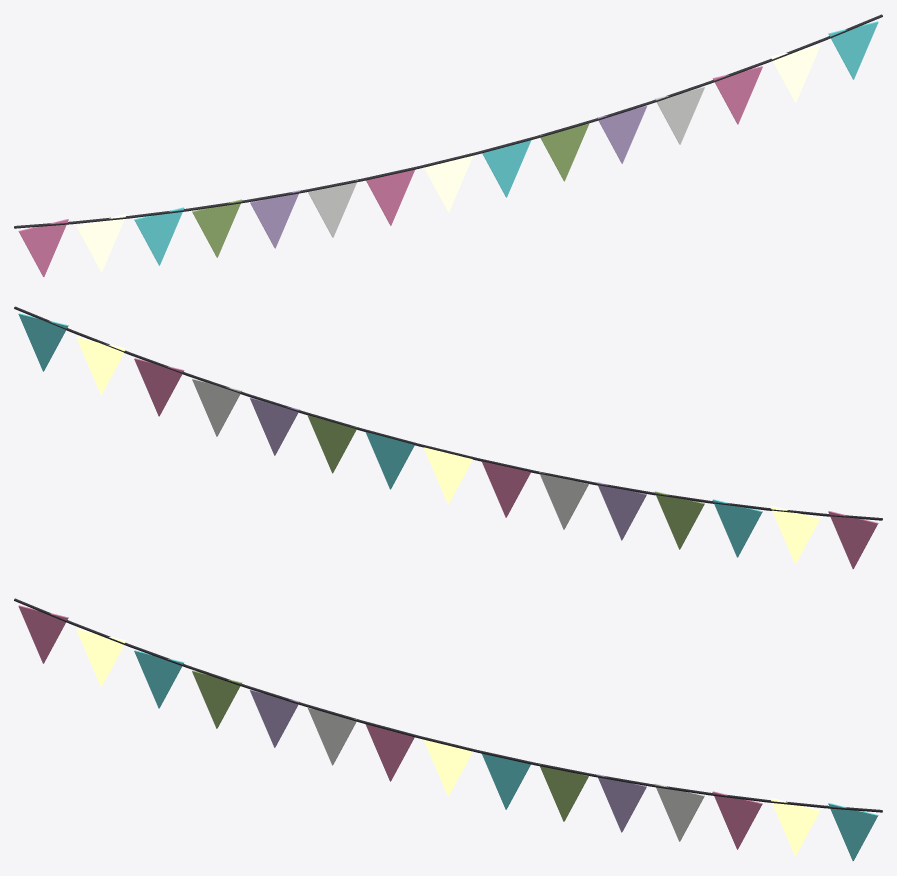
File: SM_Bunting.fbx
3 views of the same model, one above another, from view 1: azimuth 30°, elevation 25°; view 2: azimuth 150°, elevation 25°; view 3: azimuth 330°, elevation 25° (orthographic).
Parts seen in each view (by area): view 1: SM_Bunting; view 2: SM_Bunting; view 3: SM_Bunting.
Part boxes in pixels (box(x1,y1,x2,y2)): SM_Bunting: box(14, 14, 882, 276); SM_Bunting: box(14, 306, 882, 568); SM_Bunting: box(14, 598, 882, 860).
Bounding box in the file's own units: 4.2 × 0.4256 × 0.0109.
